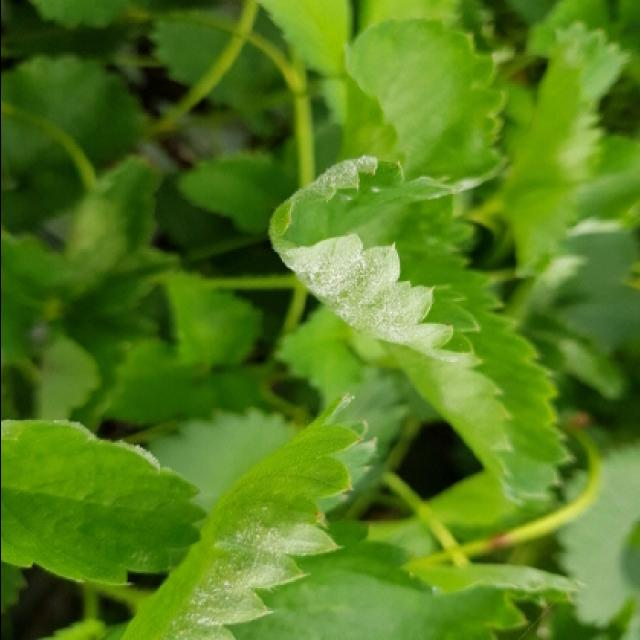Powdery Mildew Leaf: (121, 391, 377, 640), (265, 155, 480, 360), (2, 418, 208, 587)
